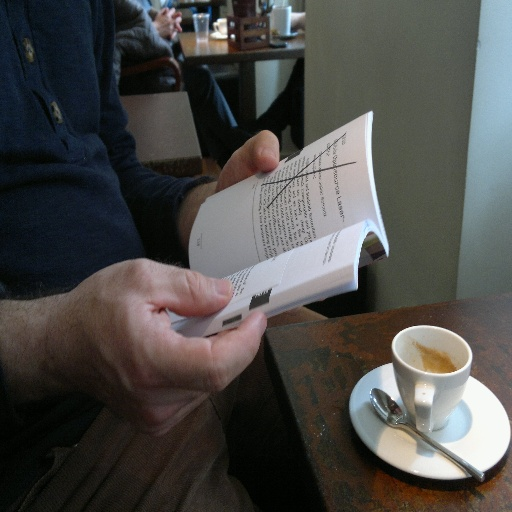hand: (14, 241, 275, 442), (213, 128, 328, 318), (153, 4, 184, 37), (160, 6, 184, 37)
